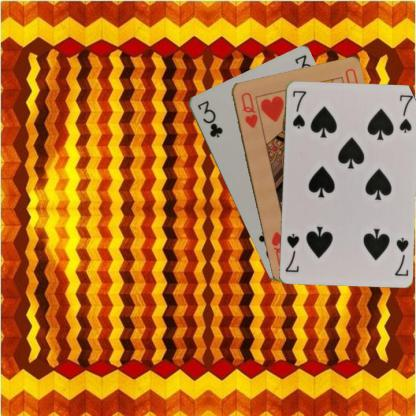3c: (194, 98, 224, 139)
7s: (392, 235, 410, 278), (290, 87, 307, 130)
Qh: (238, 90, 259, 130)
